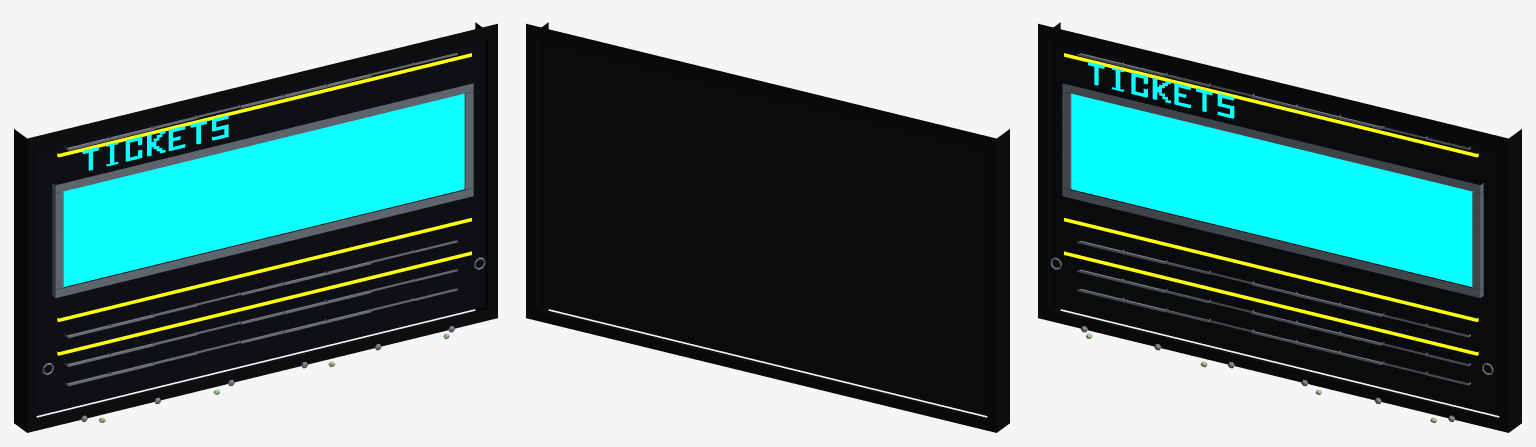
File: tt_foyer_backdrop.glb
The picture shows the model from 3 angles, left to right: view 1: azimuth 30°, elevation 25°; view 2: azimuth 150°, elevation 25°; view 3: azimuth 330°, elevation 25°; orthographic projection.
Visible parts, largest first — view 1: Wall_Core, Screen_Band, Wall_Frame, Screen_Bezel, River_Waves, River_LED, Wayfinding_Glyphs; view 2: Wall_Core, Wall_Frame; view 3: Wall_Core, Screen_Band, Wall_Frame, Screen_Bezel, River_Waves, River_LED, Wayfinding_Glyphs.
Boxes of the visible parts, bbox=[...] form: Wall_Core: bbox=[36, 41, 484, 415]; Screen_Band: bbox=[61, 93, 464, 286]; Wall_Frame: bbox=[14, 22, 497, 432]; Screen_Bezel: bbox=[52, 83, 473, 297]; River_Waves: bbox=[65, 53, 457, 386]; River_LED: bbox=[57, 53, 471, 355]; Wayfinding_Glyphs: bbox=[82, 115, 228, 170]; Wall_Core: bbox=[539, 41, 987, 415]; Wall_Frame: bbox=[526, 22, 1009, 432]; Wall_Core: bbox=[1051, 41, 1499, 415]; Screen_Band: bbox=[1071, 93, 1474, 286]; Wall_Frame: bbox=[1038, 22, 1521, 432]; Screen_Bezel: bbox=[1062, 83, 1483, 297]; River_Waves: bbox=[1077, 53, 1470, 385]; River_LED: bbox=[1064, 53, 1478, 355]; Wayfinding_Glyphs: bbox=[1088, 61, 1234, 118].
Size of what is drawn, in the model's own units: 4.1 by 2.45 by 0.4051.
7 materials, 3 textured.
